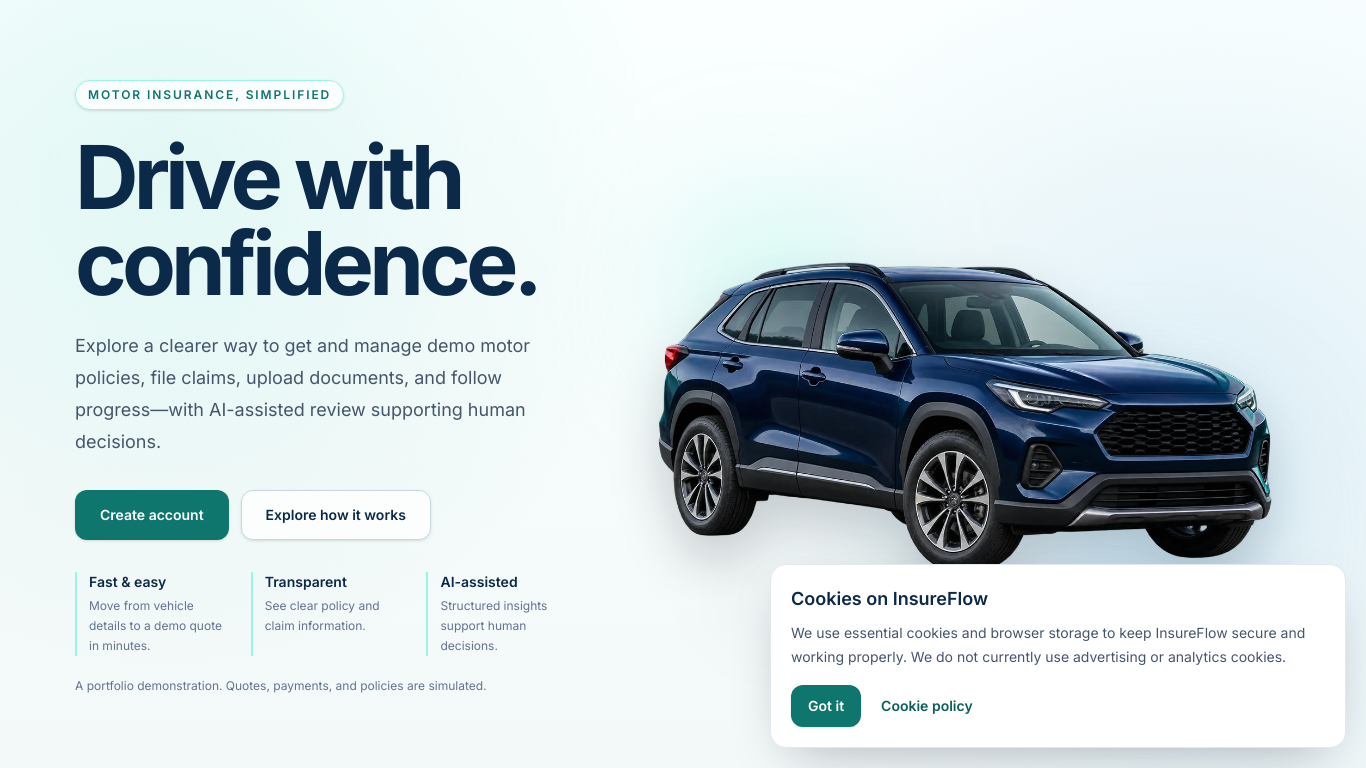
PublicCookieNotice › pointer dismissal never focuses a hero hotspot or opens its comparison card
Click the button "Got it": click(826, 706) [791, 685, 861, 727]
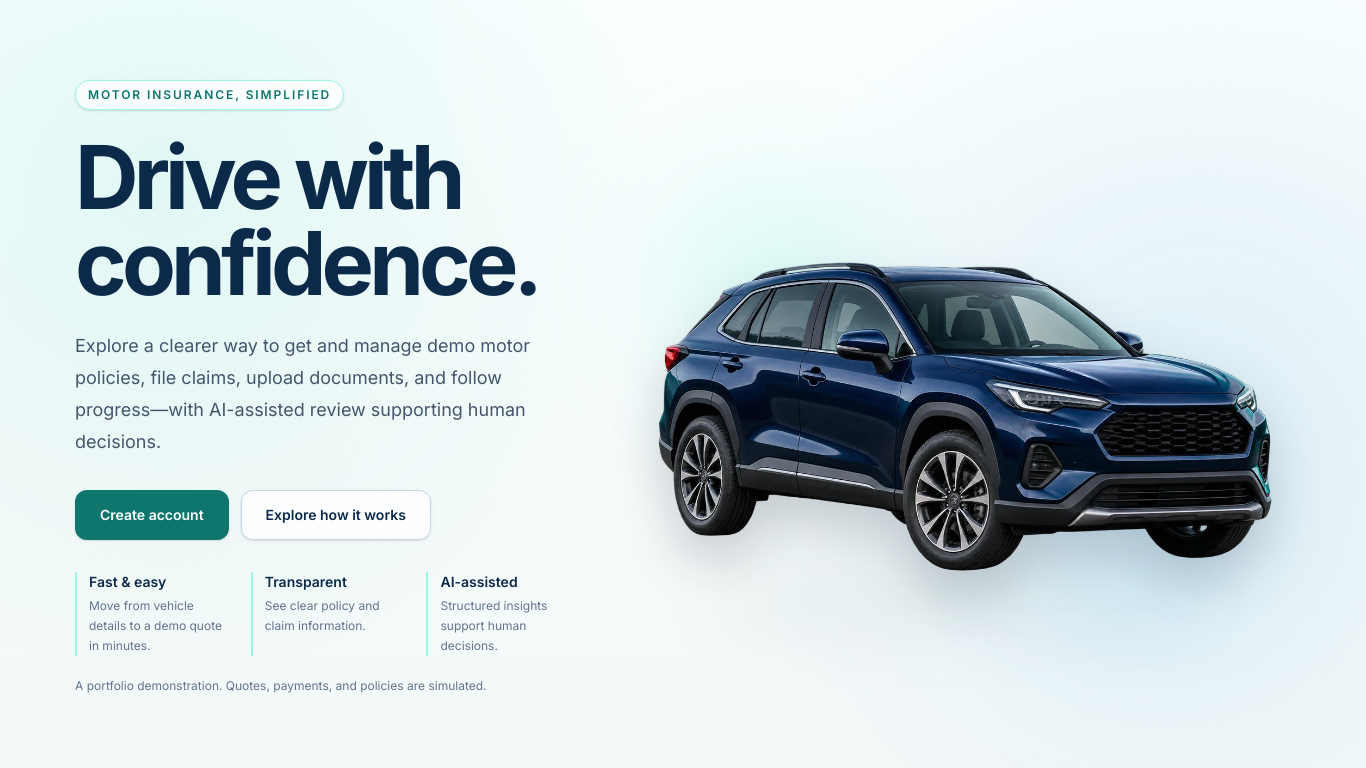
Check: the heading "Cookies on InsureFlow" is gone
